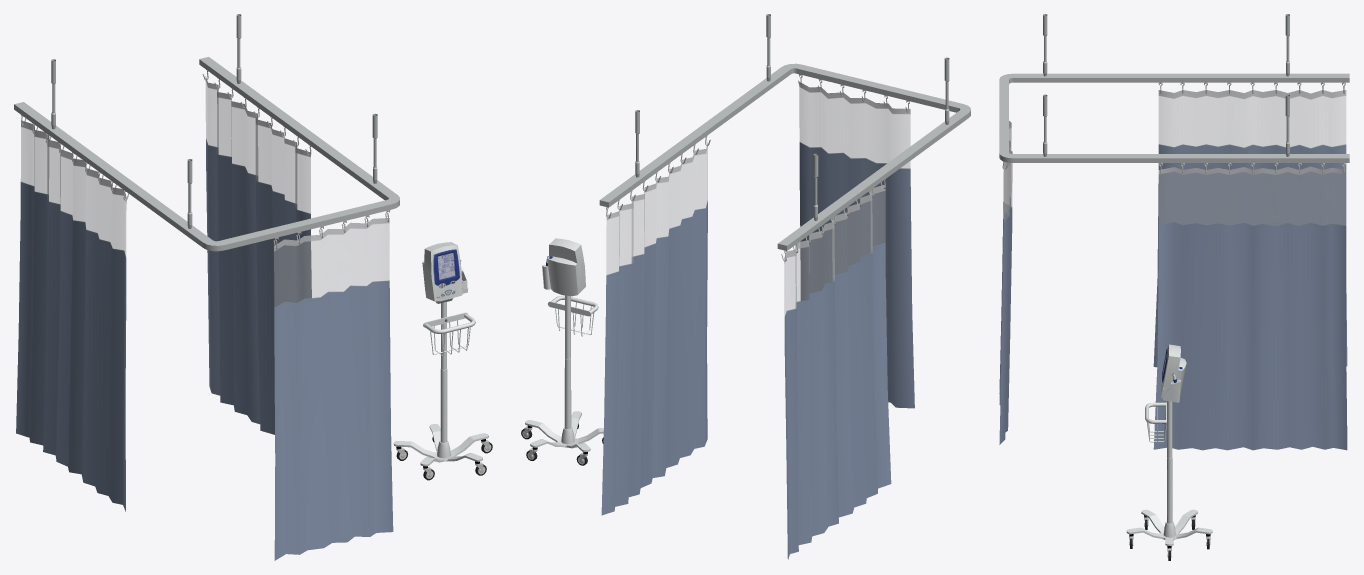
Rendered from cortina-monitor.glb.
3 views of the same model, side by side, from view 1: azimuth 30°, elevation 25°; view 2: azimuth 150°, elevation 25°; view 3: azimuth 270°, elevation 25° (orthographic). The views are drawn at different scales.
Parts seen in each view (by area): view 1: F_Curtain, L_Curtain, R_Curtain, Rail, VitalsMonitor, Screen; view 2: L_Curtain, R_Curtain, F_Curtain, Rail, VitalsMonitor, Screen; view 3: R_Curtain, L_Curtain, Rail, F_Curtain, VitalsMonitor, Screen.
Boxes of the visible parts, left/top/right/bottom form: F_Curtain: left=274, top=218, right=393, bottom=560; L_Curtain: left=16, top=121, right=126, bottom=511; R_Curtain: left=205, top=76, right=311, bottom=434; Rail: left=14, top=14, right=399, bottom=251; VitalsMonitor: left=393, top=302, right=492, bottom=480; Screen: left=422, top=242, right=467, bottom=303; L_Curtain: left=784, top=184, right=891, bottom=559; R_Curtain: left=601, top=142, right=707, bottom=515; F_Curtain: left=799, top=82, right=914, bottom=408; Rail: left=599, top=14, right=970, bottom=250; VitalsMonitor: left=521, top=295, right=603, bottom=465; Screen: left=542, top=238, right=585, bottom=296; R_Curtain: left=1153, top=166, right=1347, bottom=450; L_Curtain: left=1153, top=90, right=1347, bottom=367; Rail: left=999, top=14, right=1349, bottom=162; F_Curtain: left=999, top=121, right=1012, bottom=444; VitalsMonitor: left=1126, top=401, right=1212, bottom=560; Screen: left=1161, top=344, right=1186, bottom=402.
Size of the model in its own units: 8.16 by 8.97 by 7.39.
Materials: 2 (2 with a texture image).
